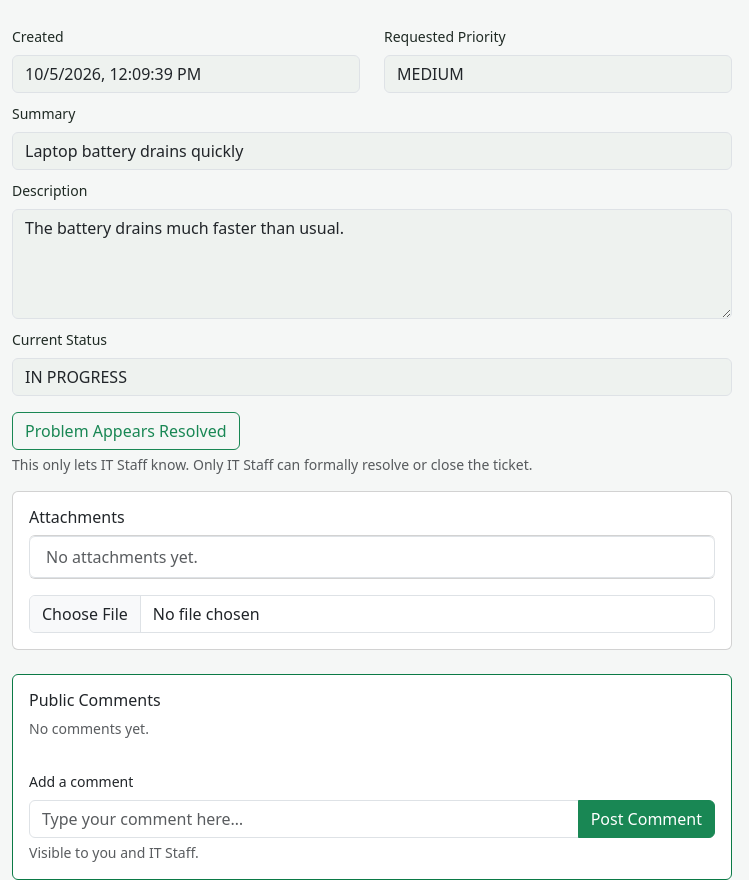
Test case: RequesterTicketDetail — Public Comments and Problem Appears Resolved (UI-07) › posts a comment and appends it to the list
(page scrolled)
Type "Thanks for the update." into the field labelled "Add a comment" at [304, 819], box top-left (29, 800), bottom-right (579, 838)
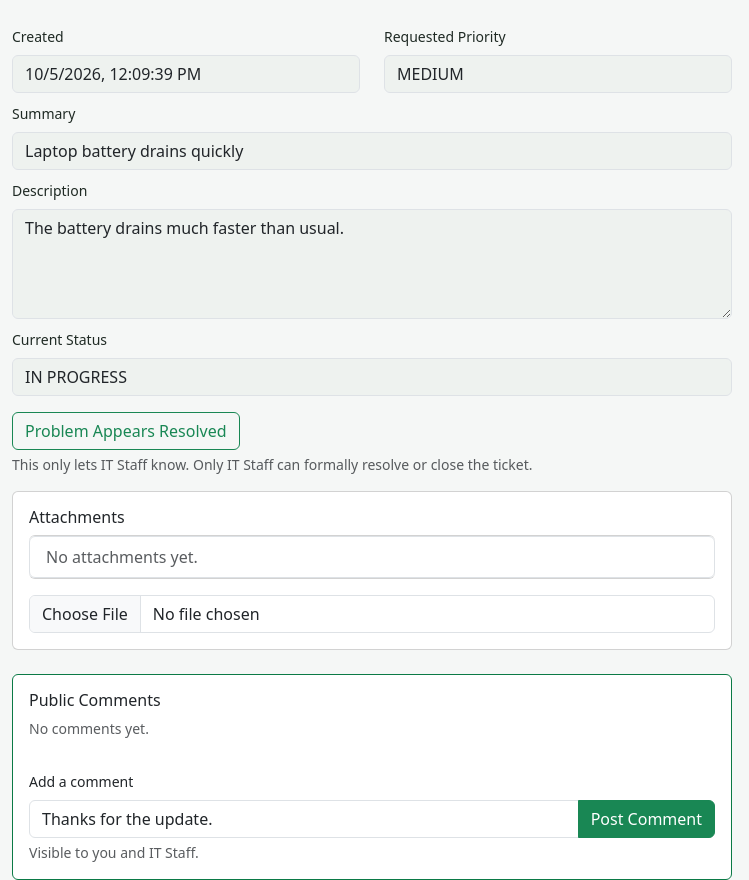
Click the button "Post Comment" at [646, 819], box top-left (578, 800), bottom-right (715, 838)
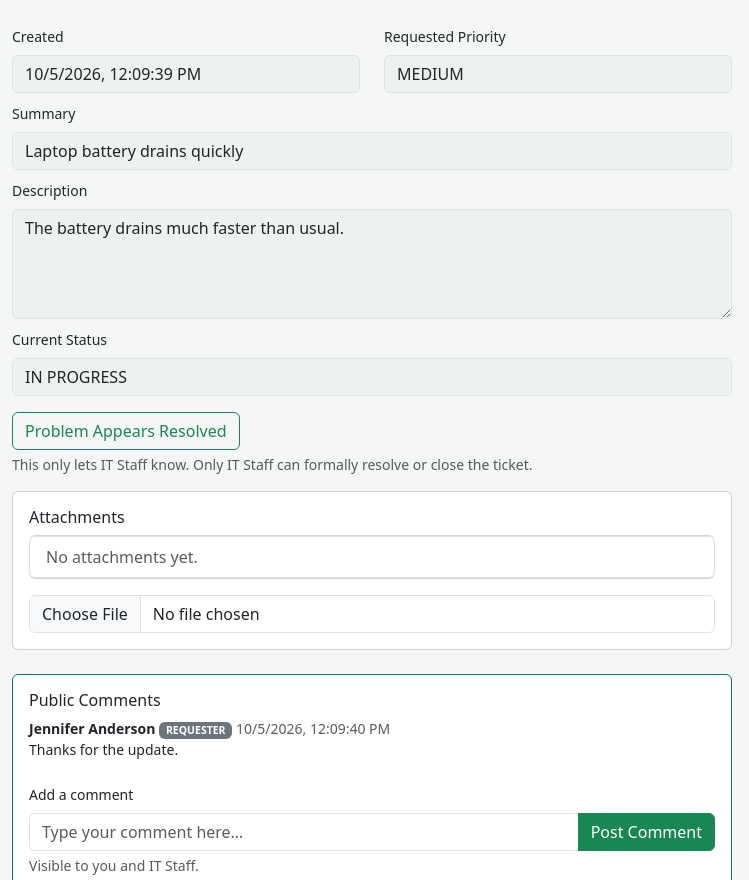
Now the text "Thanks for the update." is shown, box top-left (29, 740), bottom-right (178, 759)
